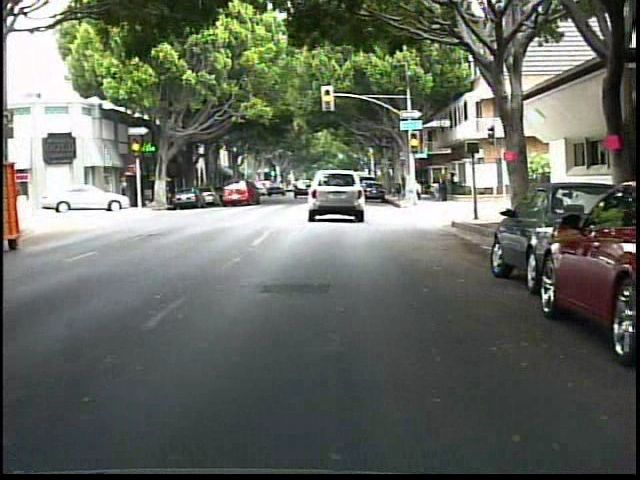person: (438, 168, 452, 204), (431, 171, 444, 202), (447, 165, 460, 196)
